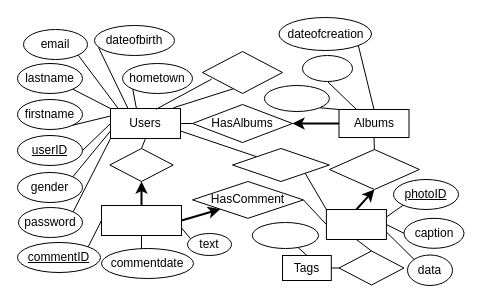
Some shapes in this 482 by 303 pixel diagram are drawn without their labels. Each missing label, with the centre of its shape:
albumID: point (296, 98)
Comments: point (141, 220)
Friends: point (242, 72)
HasPhotos: point (373, 169)
HasTag: point (371, 267)
LikesPhoto: point (280, 165)
name: point (327, 68)
Photos: point (355, 224)
tagname: point (284, 235)
Writes: point (141, 165)
